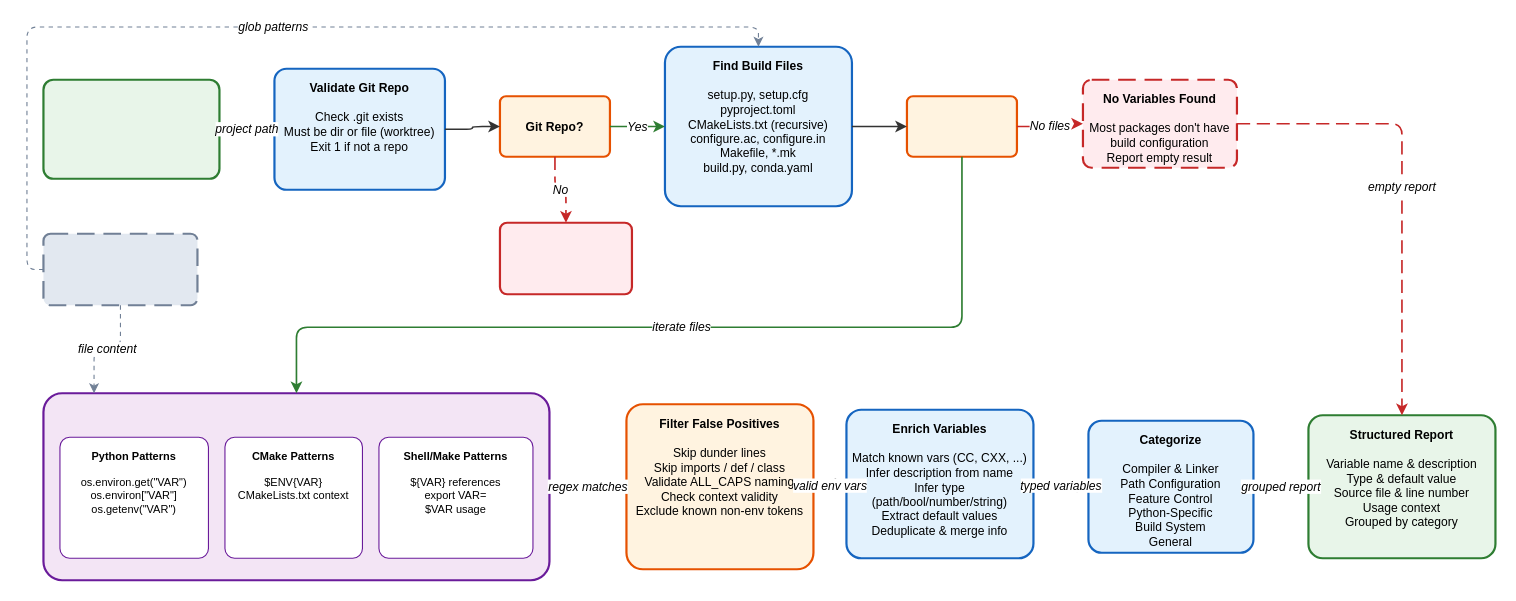
Some shapes in this 1516 by 601 pixel diagram are drawn without their labels. The box of each missing label's shape, as (x1, y1, x2, y2) in pixels:
/python-packaging-env-finder Project path input Tools: Bash, Read, Grep, Glob: (42, 78, 220, 179)
Error Not a git repository Exit non-zero: (498, 221, 632, 295)
Files Found?: (905, 95, 1018, 157)
Pattern Matching: (42, 392, 550, 581)
Project Filesystem Build config files Source tree: (42, 232, 198, 306)
